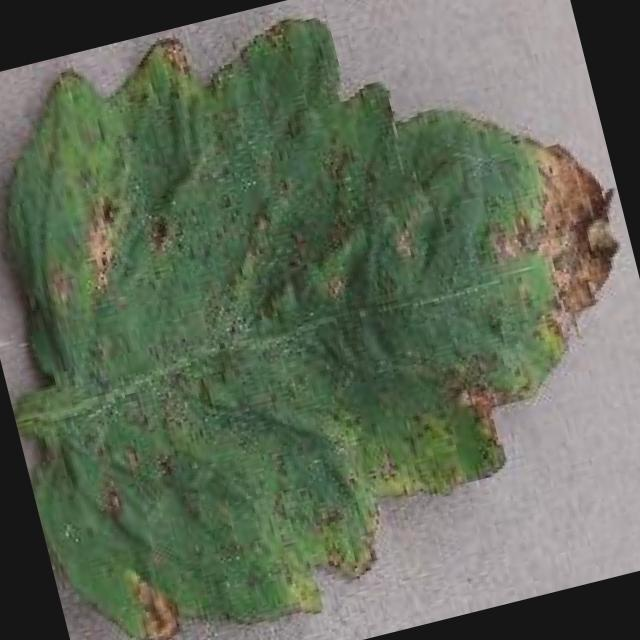bacterial spot: (3, 8, 618, 640)
